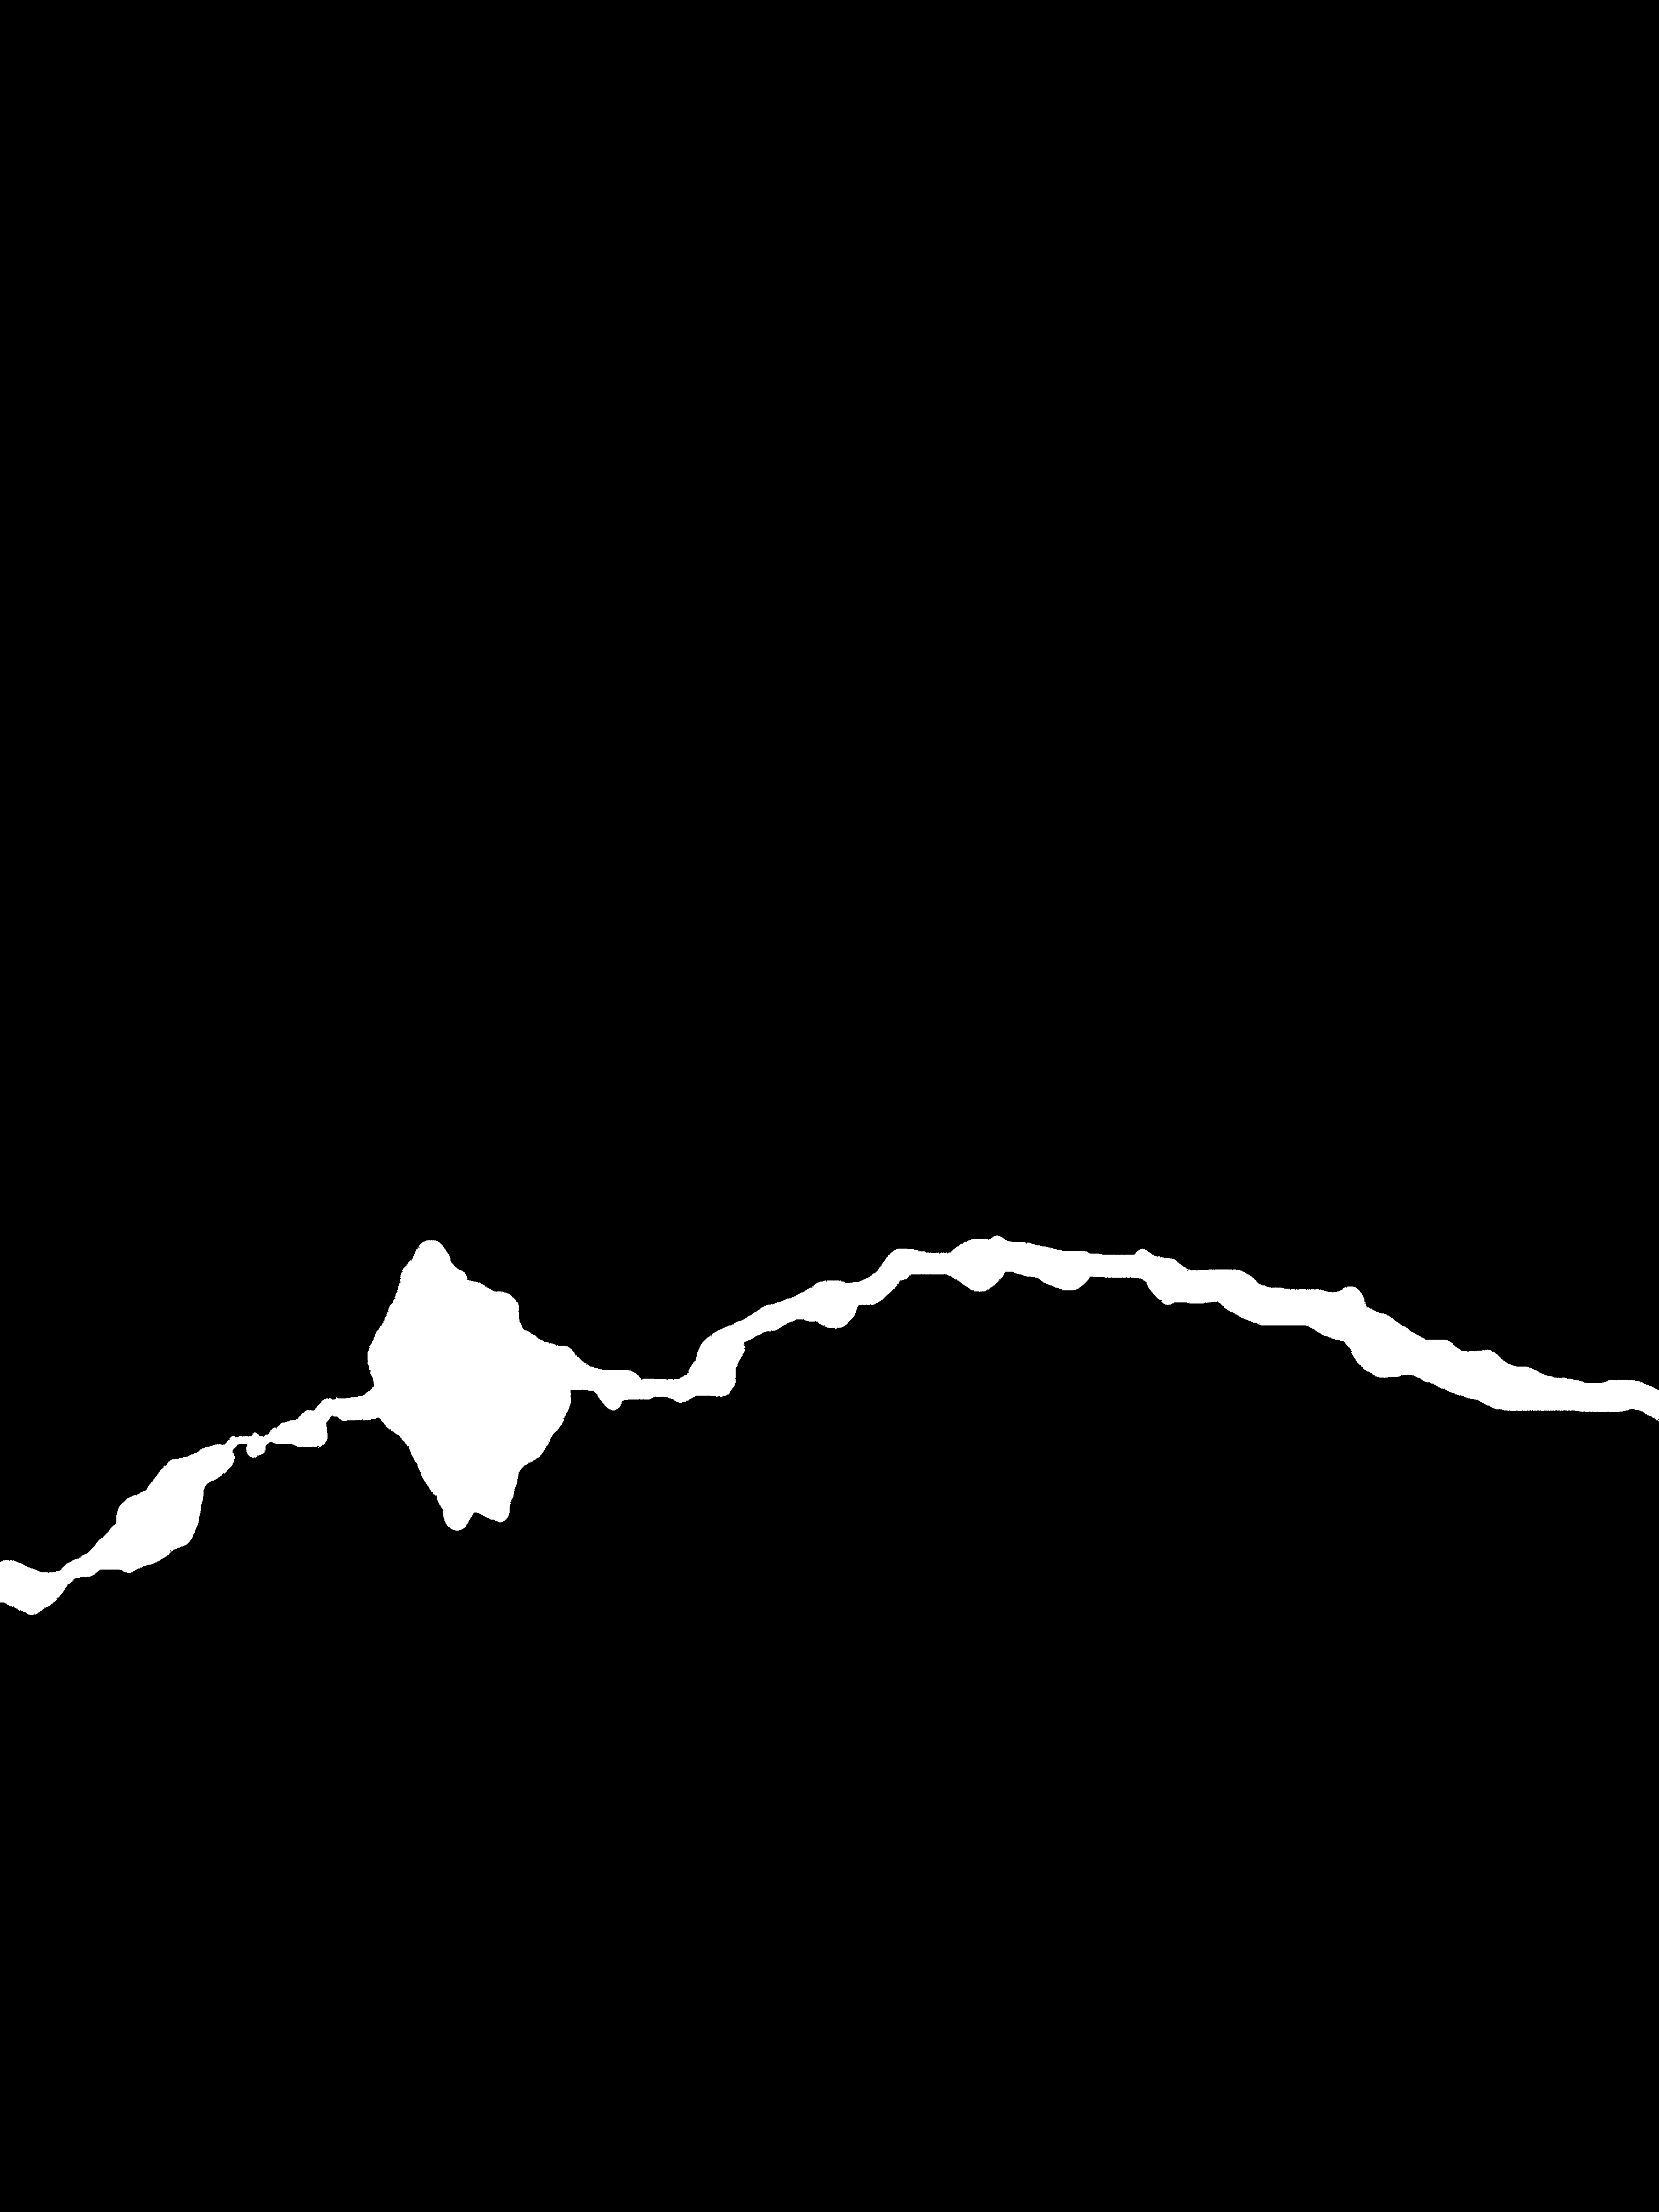Crack: (0, 1191, 1659, 1637)
